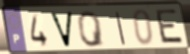0: (131, 8, 156, 48)
4: (29, 13, 50, 48)
E: (155, 8, 186, 46)
I: (115, 11, 128, 47)
Q: (76, 10, 107, 49)
V: (48, 10, 75, 50)
